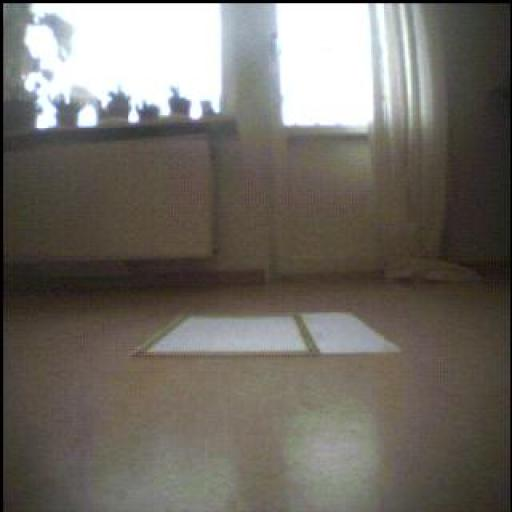Pad: (136, 313, 400, 356)
